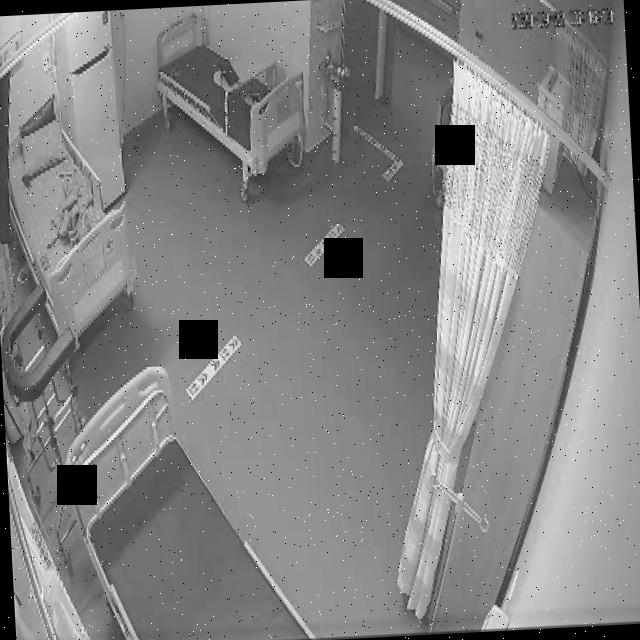bed: (56, 356, 311, 640), (2, 111, 140, 342), (155, 9, 309, 179)
walker: (0, 279, 84, 493)
